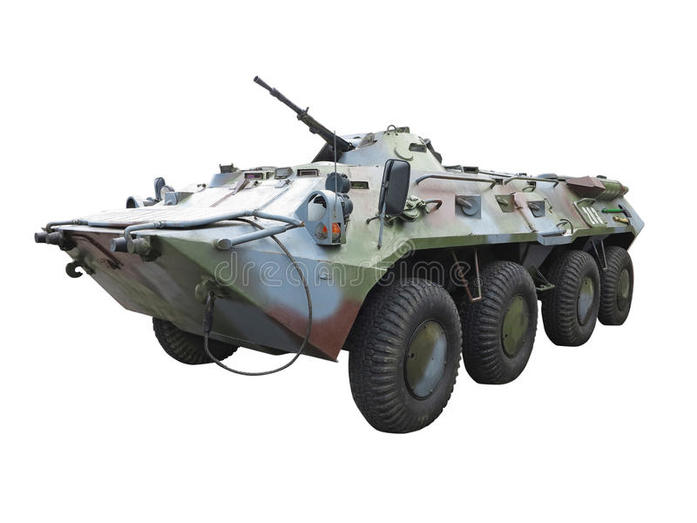btr: (49, 128, 630, 417)
